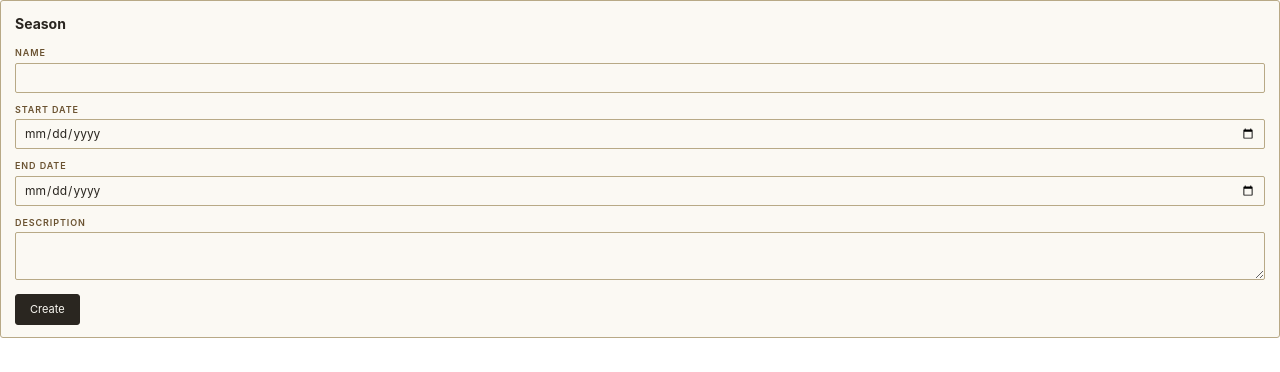
Test: SeasonForm › submit blank name → shows error-name
The image size is (1280, 372).
Type "2026-09-01" into the date field with test id "season-start-date".
click(640, 134); type("2026-09-01")  # box x1=15 y1=119 x2=1265 y2=149
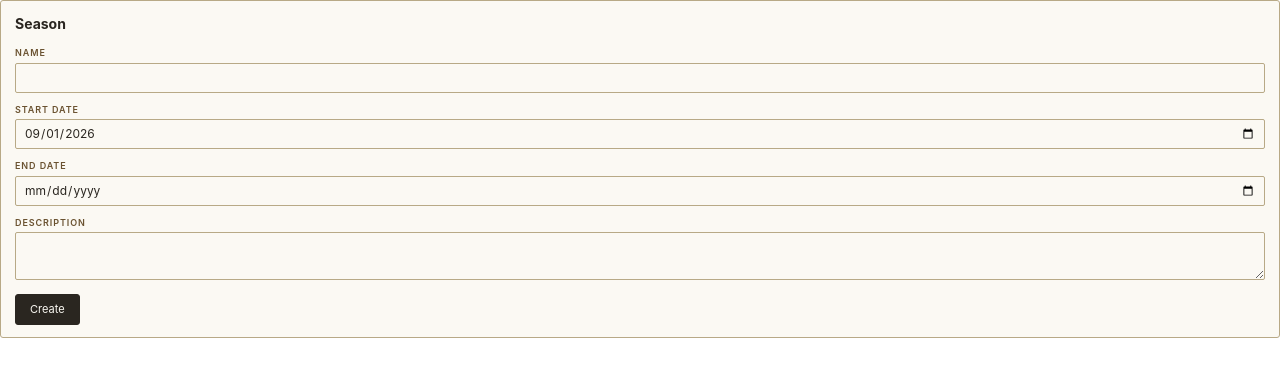
Type "2027-05-31" into the date field with test id "season-end-date".
click(640, 190); type("2027-05-31")  # box x1=15 y1=176 x2=1265 y2=206
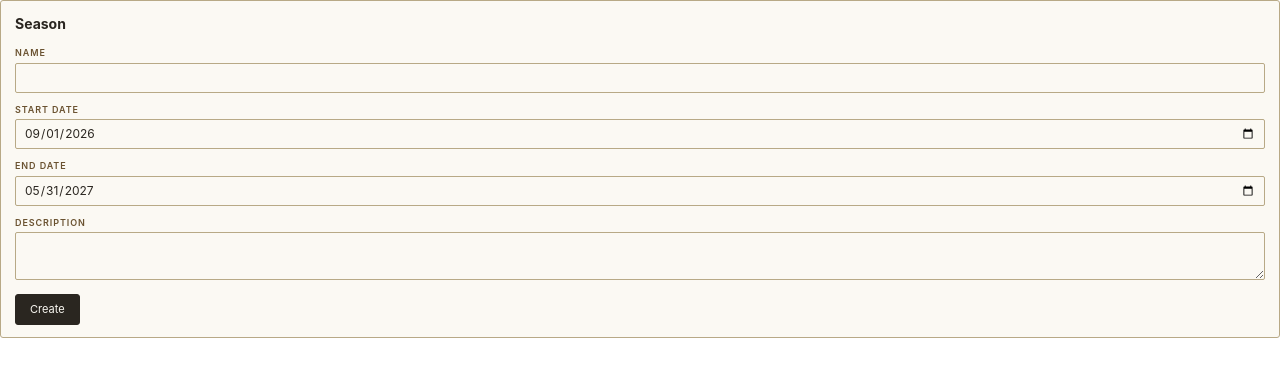
Note: name left blank
Click the button with test id "season-submit".
click(47, 309)  # box x1=15 y1=294 x2=80 y2=324
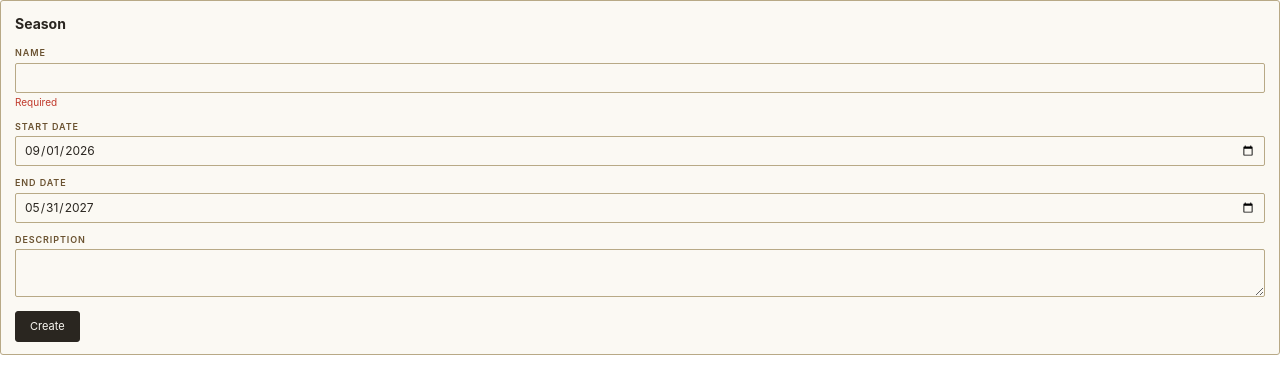
Now the text "Required" is shown, box x1=15 y1=96 x2=57 y2=108
